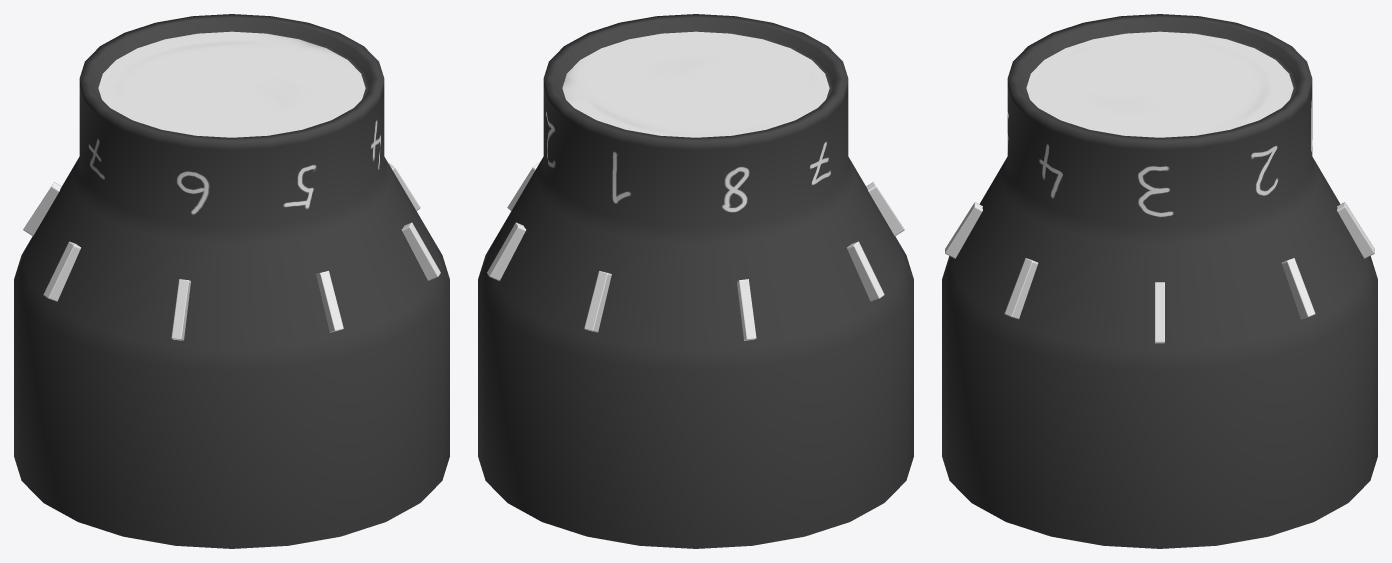
File: knob.fbx
3 renders of one model, left to right at view 1: azimuth 30°, elevation 25°; view 2: azimuth 150°, elevation 25°; view 3: azimuth 270°, elevation 25°, orthographic.
Parts seen in each view (by area): view 1: Circle; view 2: Circle; view 3: Circle.
Boxes of the visible parts, left/top/right/bottom form: Circle: left=14, top=14, right=449, bottom=548; Circle: left=478, top=14, right=913, bottom=548; Circle: left=942, top=14, right=1377, bottom=548.
Bounding box in the file's own units: 20 × 19.17 × 20.
